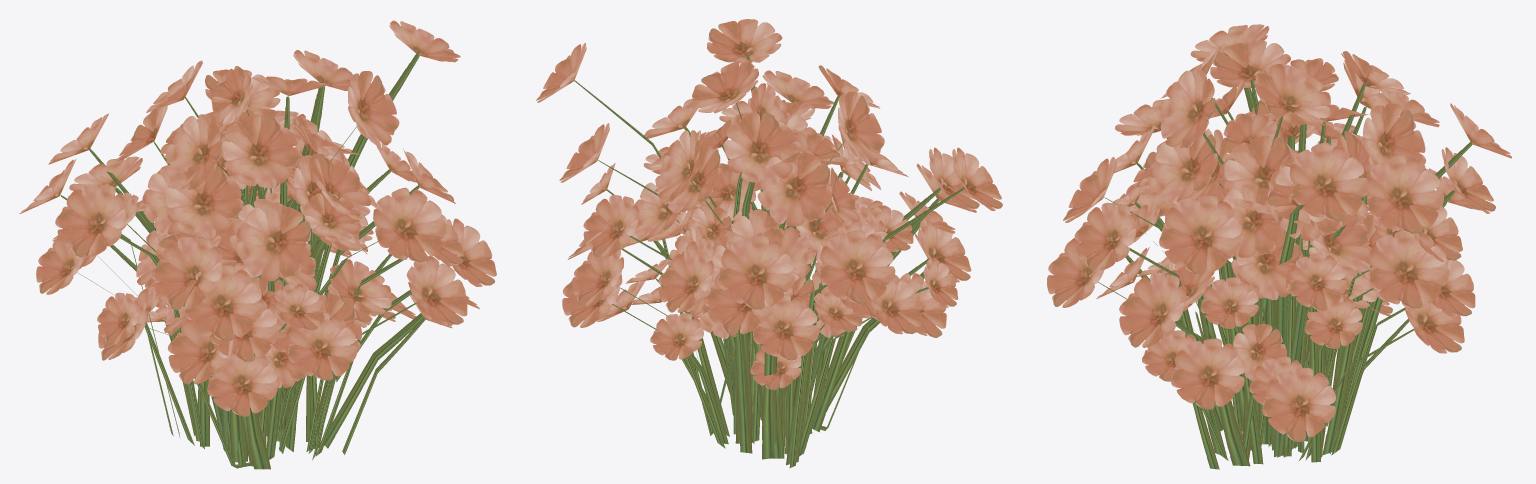
Rendered from SM_Ground_Soft_Pink_Flower_C.fbx.
The picture shows the model from 3 angles, left to right: view 1: azimuth 30°, elevation 25°; view 2: azimuth 150°, elevation 25°; view 3: azimuth 270°, elevation 25°; orthographic projection. The views are drawn at different scales.
Parts seen in each view (by area): view 1: SM_Ground_Soft_Pink_Flower_C_LOD0; view 2: SM_Ground_Soft_Pink_Flower_C_LOD0; view 3: SM_Ground_Soft_Pink_Flower_C_LOD0.
Part boxes in pixels (bbox=[...]): SM_Ground_Soft_Pink_Flower_C_LOD0: bbox=[19, 20, 496, 469]; SM_Ground_Soft_Pink_Flower_C_LOD0: bbox=[536, 19, 1002, 467]; SM_Ground_Soft_Pink_Flower_C_LOD0: bbox=[1047, 24, 1511, 469].
Bounding box in the file's own units: 33.38 × 30.23 × 28.01.
1 material, 1 textured.
